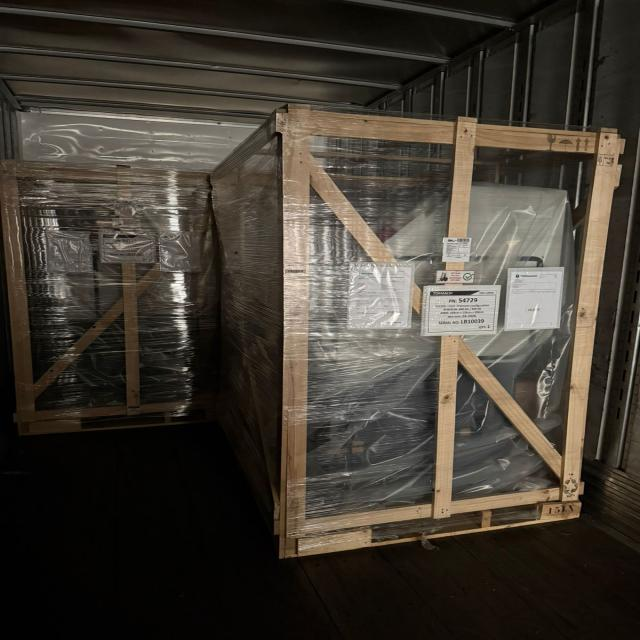15lx: (206, 104, 623, 557), (0, 161, 219, 434), (0, 162, 217, 435), (0, 506, 17, 551)
